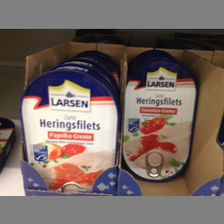fish: (19, 65, 120, 193), (123, 59, 198, 183)
